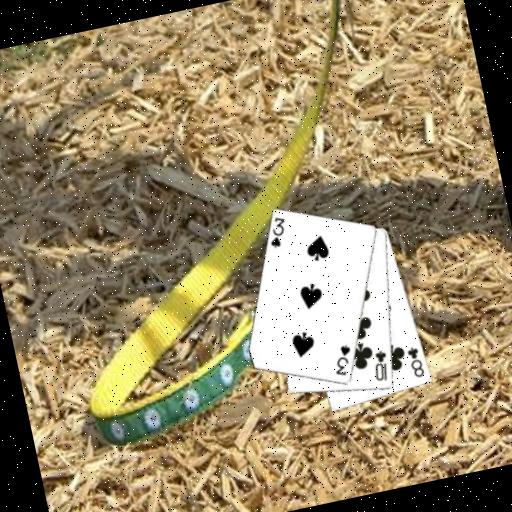10C: (367, 346, 393, 384)
3S: (327, 341, 357, 379), (262, 212, 292, 250)
8C: (403, 343, 427, 381)
